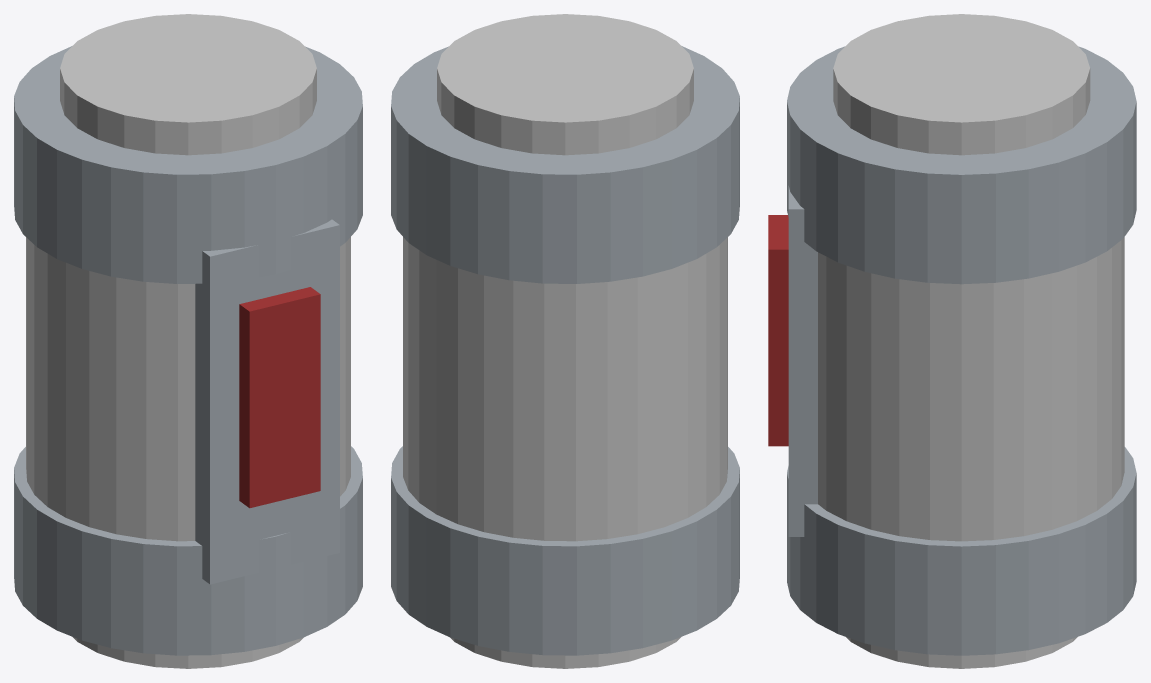
File: switch_ring.obj
3 views of the same model, side by side, from view 1: azimuth 30°, elevation 25°; view 2: azimuth 150°, elevation 25°; view 3: azimuth 270°, elevation 25° (orthographic).
Visible parts, largest first — view 1: switch_mount_ring_upper_trim, switch_mount_ring, switch_mount_ring_lower_trim, switch_housing, upper_choke, activation_switch, core_button_module; view 2: switch_mount_ring, switch_mount_ring_upper_trim, switch_mount_ring_lower_trim, upper_choke, core_button_module; view 3: switch_mount_ring, switch_mount_ring_upper_trim, switch_mount_ring_lower_trim, upper_choke, core_button_module, switch_housing, activation_switch.
Part boxes in pixels (box(x1,y1,x2,y2)): switch_mount_ring_upper_trim: box(14, 46, 362, 283); switch_mount_ring: box(26, 237, 350, 541); switch_mount_ring_lower_trim: box(14, 446, 362, 655); switch_housing: box(195, 219, 339, 584); upper_choke: box(60, 14, 316, 668); activation_switch: box(239, 287, 320, 508); core_button_module: box(81, 23, 295, 113); switch_mount_ring: box(403, 237, 727, 541); switch_mount_ring_upper_trim: box(391, 46, 739, 283); switch_mount_ring_lower_trim: box(391, 446, 739, 655); upper_choke: box(437, 14, 693, 668); core_button_module: box(458, 23, 672, 113); switch_mount_ring: box(818, 237, 1124, 541); switch_mount_ring_upper_trim: box(787, 46, 1136, 284); switch_mount_ring_lower_trim: box(787, 447, 1136, 655); upper_choke: box(833, 14, 1090, 668); core_button_module: box(854, 23, 1068, 113); switch_housing: box(788, 186, 817, 536); activation_switch: box(768, 215, 788, 446).
Bounding box in the file's own units: 0.1813 × 0.3125 × 0.1908.
